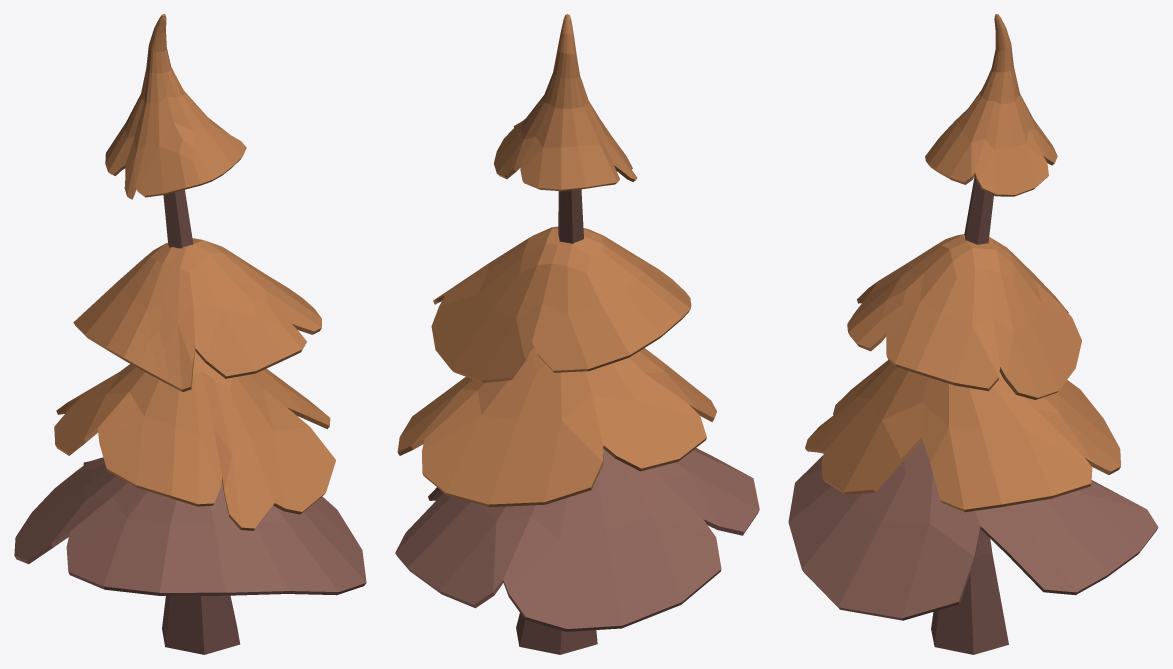
Rendered from pinetree_autumn_2.glb.
3 views of the same model, side by side, from view 1: azimuth 30°, elevation 25°; view 2: azimuth 150°, elevation 25°; view 3: azimuth 270°, elevation 25° (orthographic). The views are drawn at different scales.
Visible parts, largest first — view 1: PineTree_Autumn_2; view 2: PineTree_Autumn_2; view 3: PineTree_Autumn_2.
Part boxes in pixels (x1=…): PineTree_Autumn_2: x1=14, y1=14, x2=366, y2=654; PineTree_Autumn_2: x1=395, y1=14, x2=759, y2=654; PineTree_Autumn_2: x1=788, y1=14, x2=1158, y2=654.
Size of the model in its own units: 4.49 by 8.91 by 4.89.
